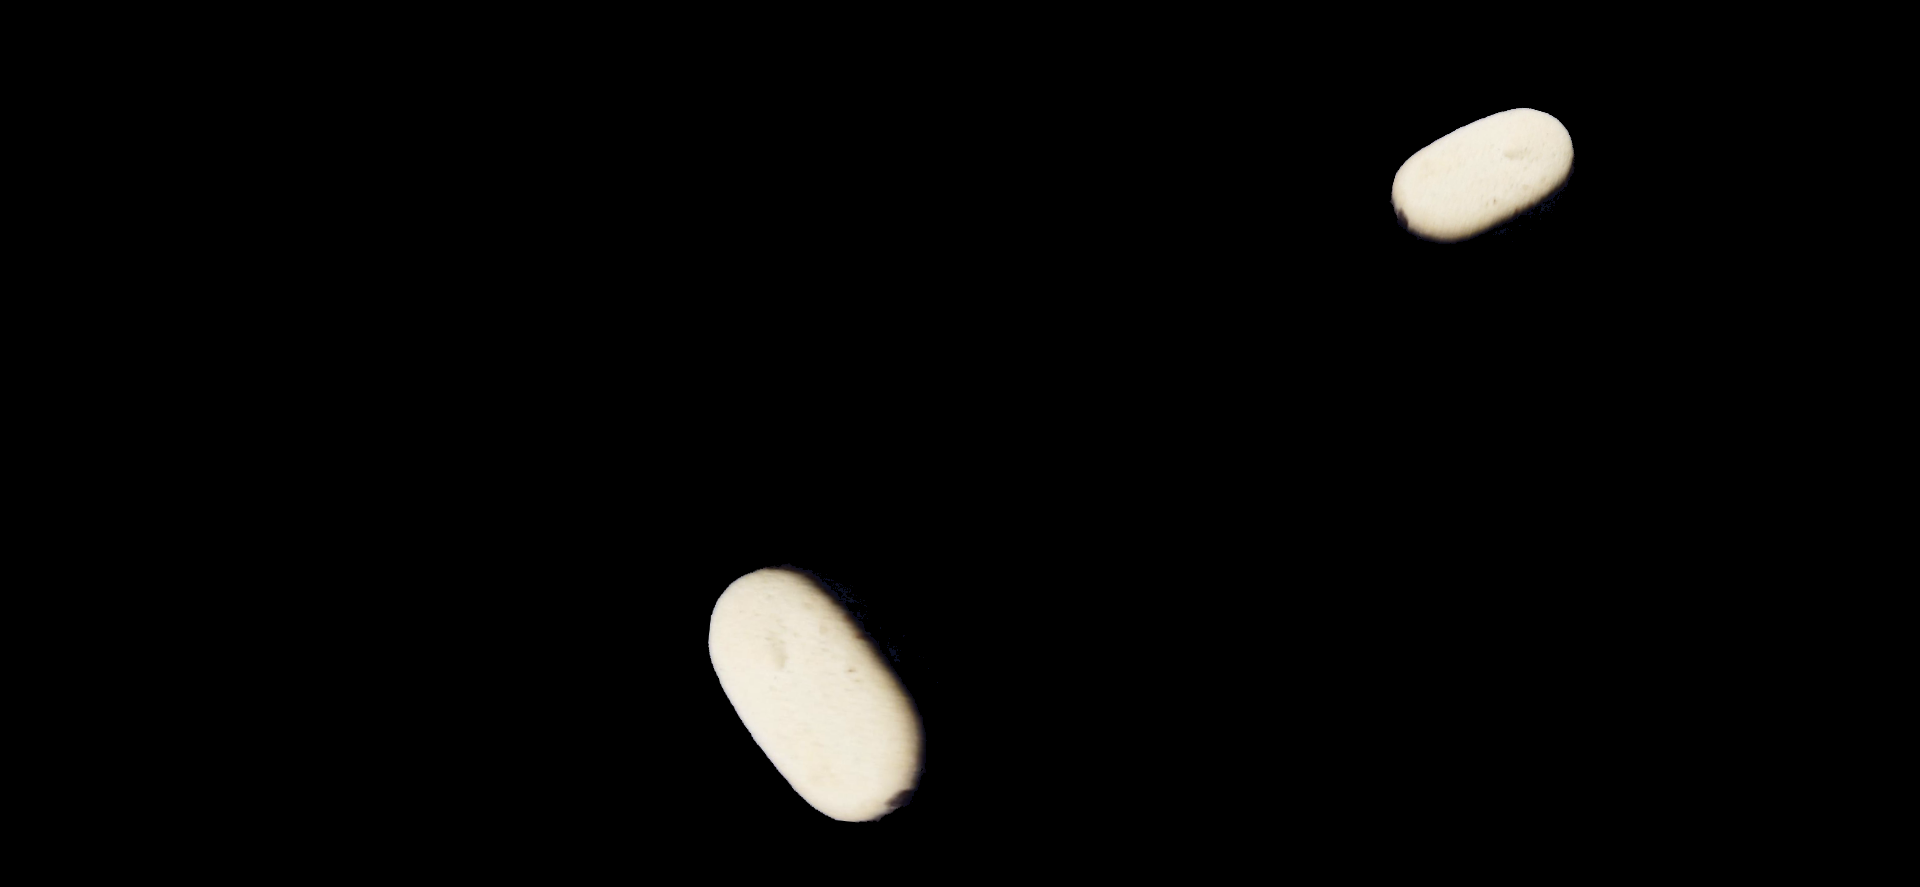test: (687, 551, 969, 834), (1374, 75, 1589, 290)
